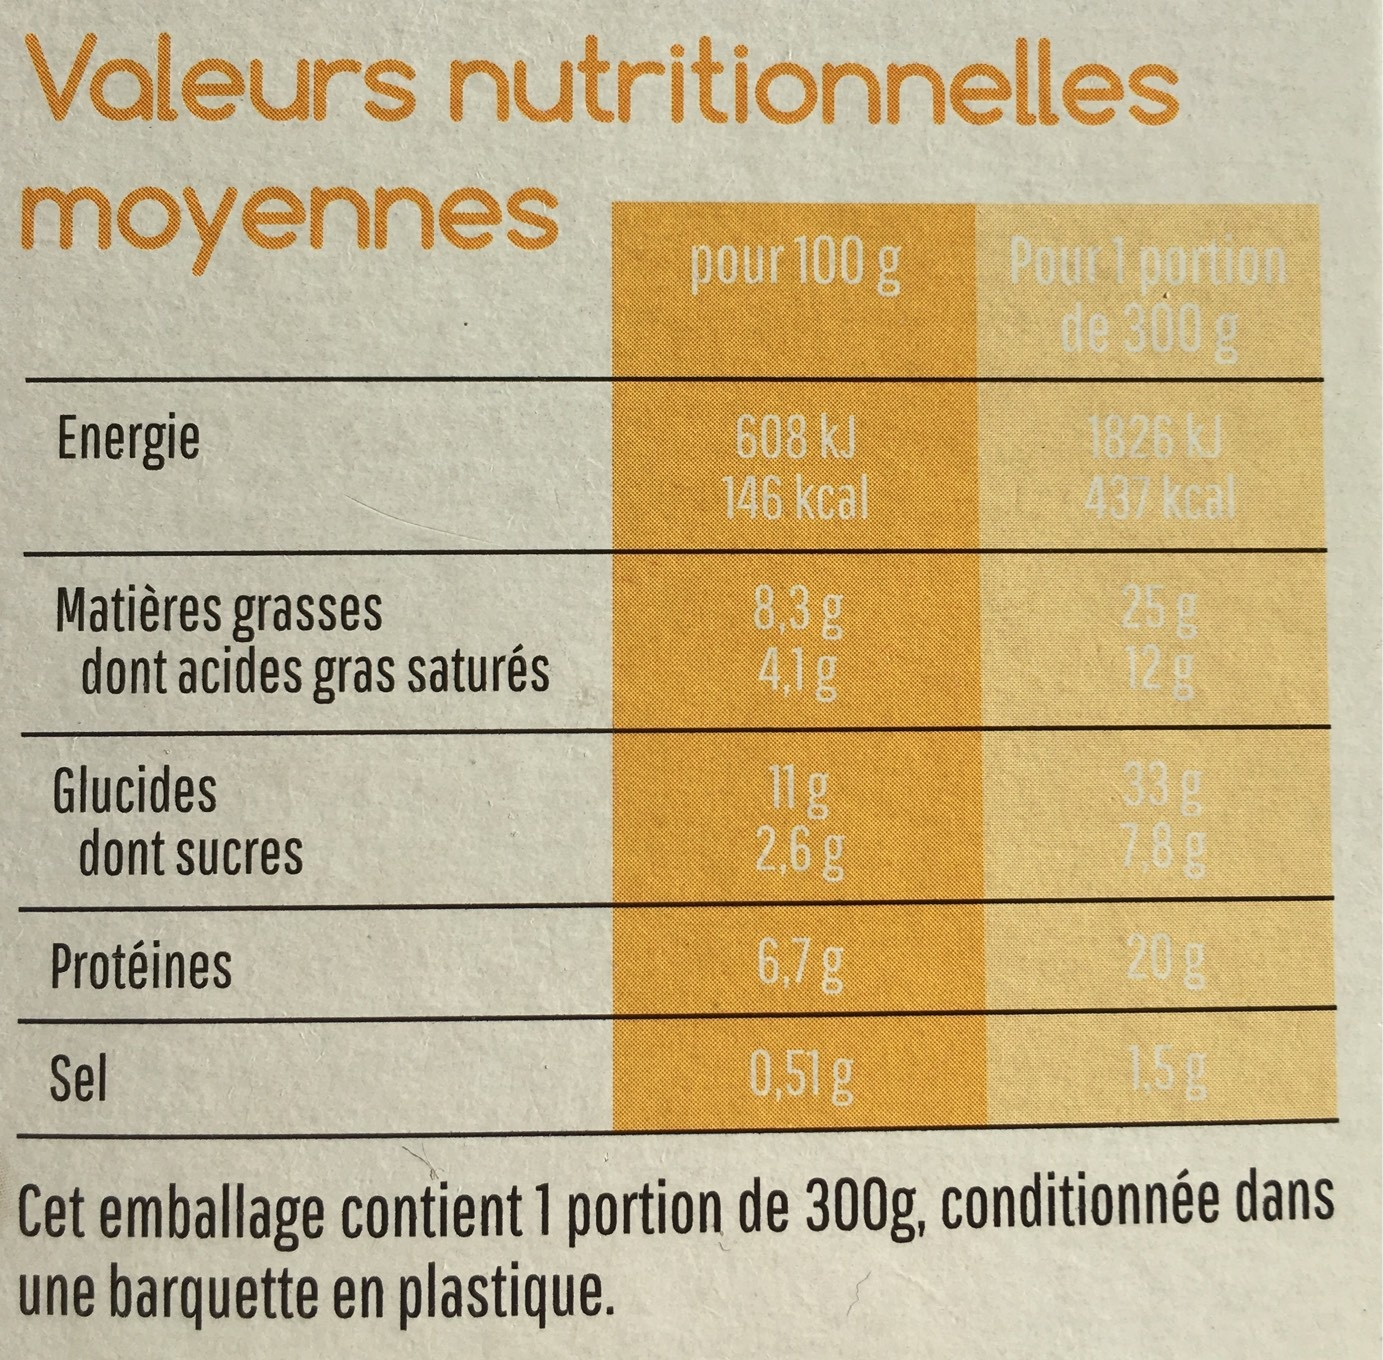column: (54, 384, 551, 1113), (1009, 205, 1297, 1120), (687, 208, 907, 1120)
table: (20, 16, 1339, 1133)
